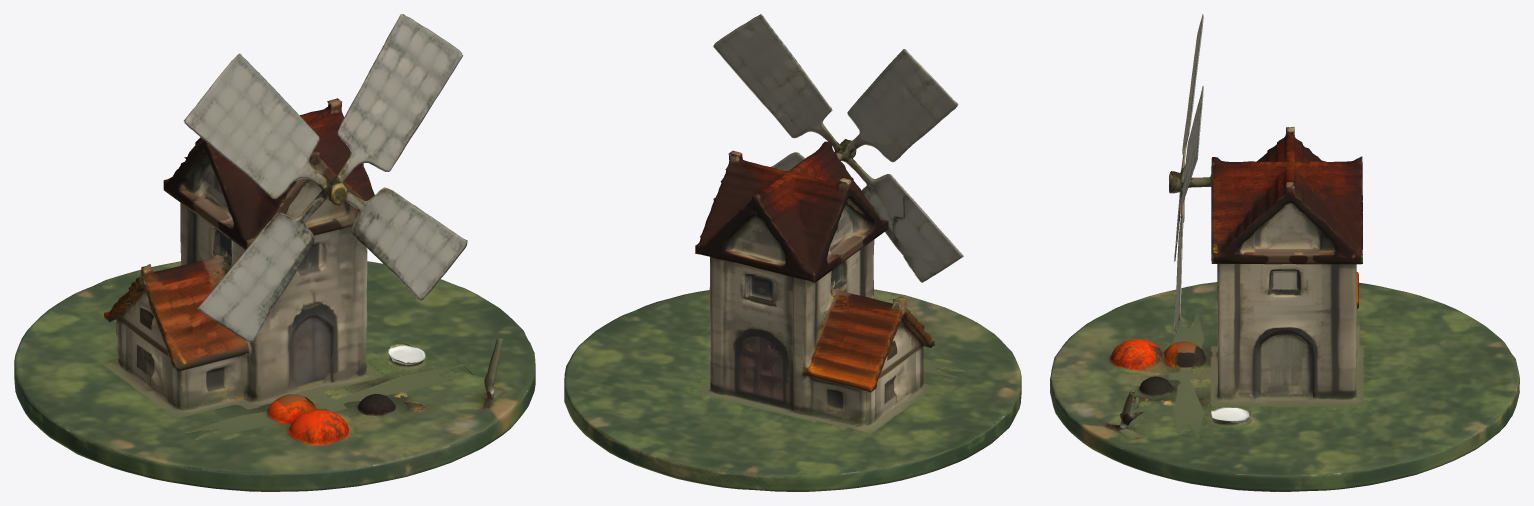
File: windmill-landmark.glb
3 views of the same model, side by side, from view 1: azimuth 30°, elevation 25°; view 2: azimuth 150°, elevation 25°; view 3: azimuth 270°, elevation 25° (orthographic). The views are drawn at different scales.
Parts seen in each view (by area): view 1: model; view 2: model; view 3: model.
Part boxes in pixels (bbox=[...]): model: bbox=[14, 14, 535, 491]; model: bbox=[564, 14, 1021, 491]; model: bbox=[1050, 14, 1519, 491].
Bounding box in the file's own units: 1.9 × 1.53 × 1.9.
Materials: 1 (1 with a texture image).
